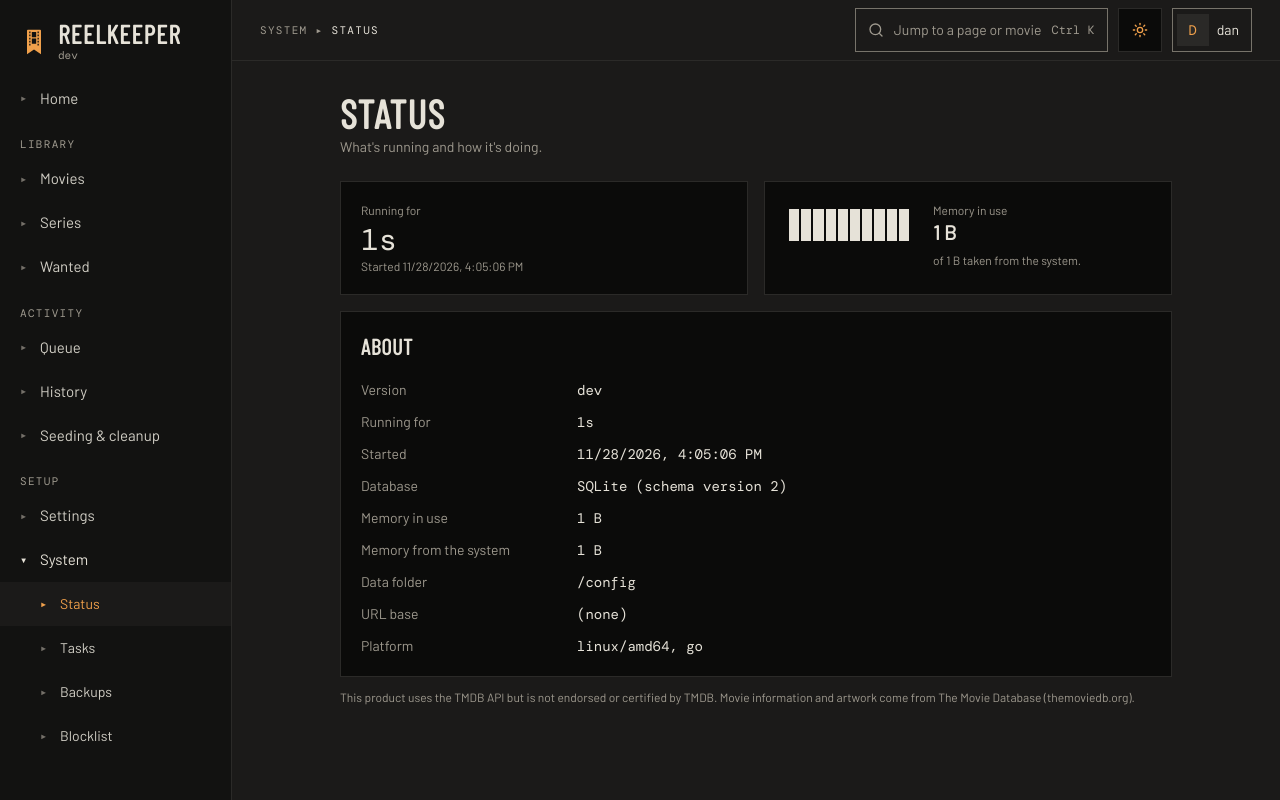
Test: account menu › doesn't offer linking when single sign-on is off
What coordinates should you click on to do the following:
click the button with aria-label "Account menu"
I would click on:
 (1212, 30)
Its box is [1172,8,1252,52].
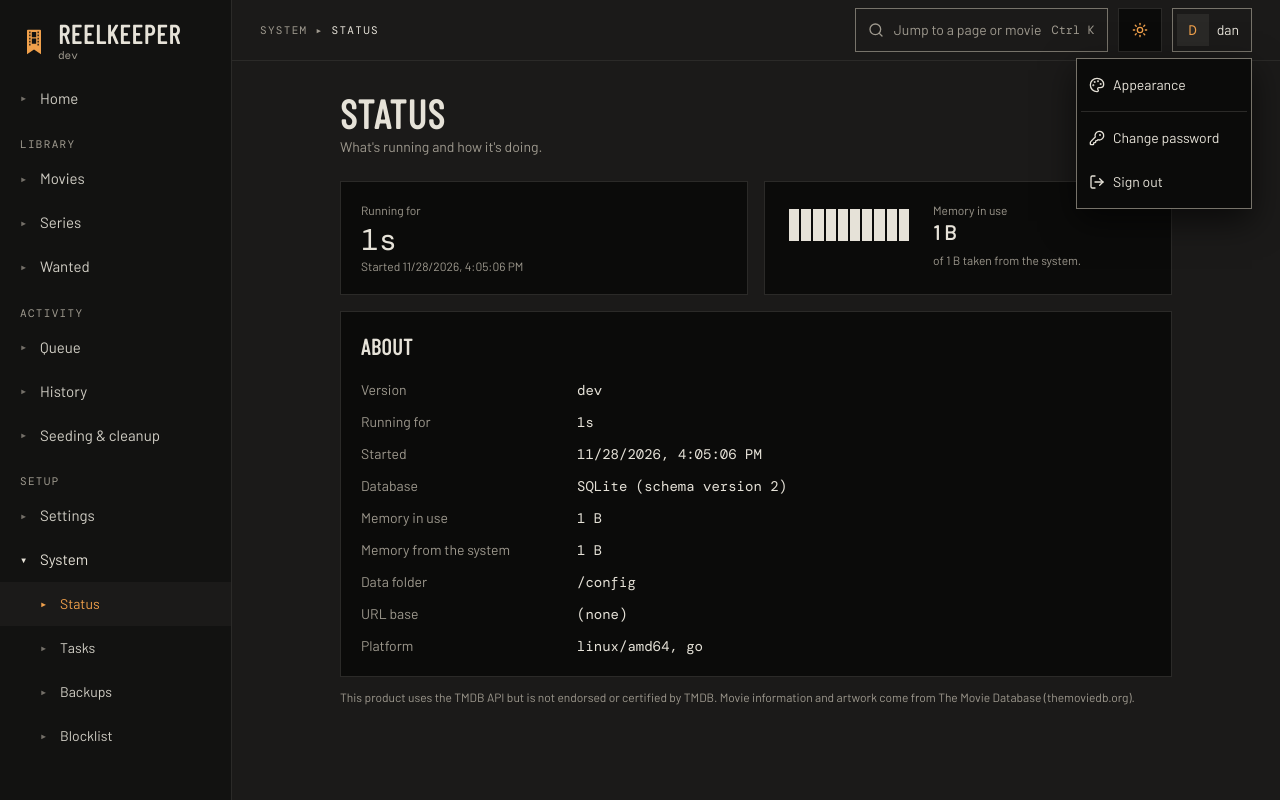
Expected: the menu item "Sign out" is shown, [1089,173,1163,190]
